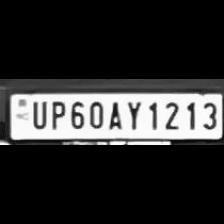0: (85, 97, 105, 129)
1: (180, 98, 198, 130), (142, 100, 160, 130)
2: (159, 98, 181, 130)
3: (199, 98, 219, 130)
6: (66, 97, 86, 129)
A: (104, 97, 124, 130)
P: (47, 99, 66, 129)
U: (28, 99, 46, 129)
Y: (122, 98, 144, 132)
